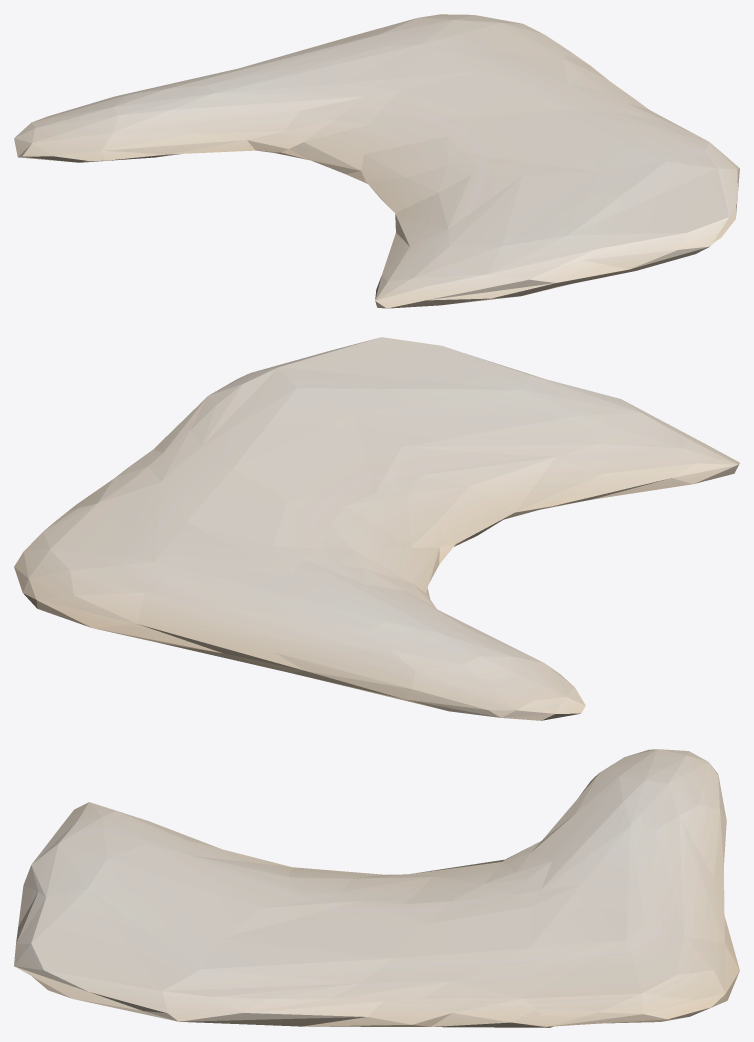
The picture shows the model from 3 angles, top to bottom: view 1: azimuth 30°, elevation 25°; view 2: azimuth 150°, elevation 25°; view 3: azimuth 270°, elevation 25°; orthographic projection. The views are drawn at different scales.
Visible parts, largest first — view 1: BeachPart_U; view 2: BeachPart_U; view 3: BeachPart_U.
Boxes of the visible parts, left/top/right/bottom form: BeachPart_U: left=14, top=14, right=739, bottom=308; BeachPart_U: left=14, top=337, right=739, bottom=720; BeachPart_U: left=14, top=749, right=739, bottom=1027.
Size of the model in its own units: 187 by 13.34 by 200.
Materials: 1 (1 with a texture image).
